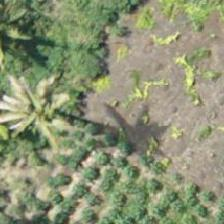coconut_tree: (0, 59, 87, 149)
